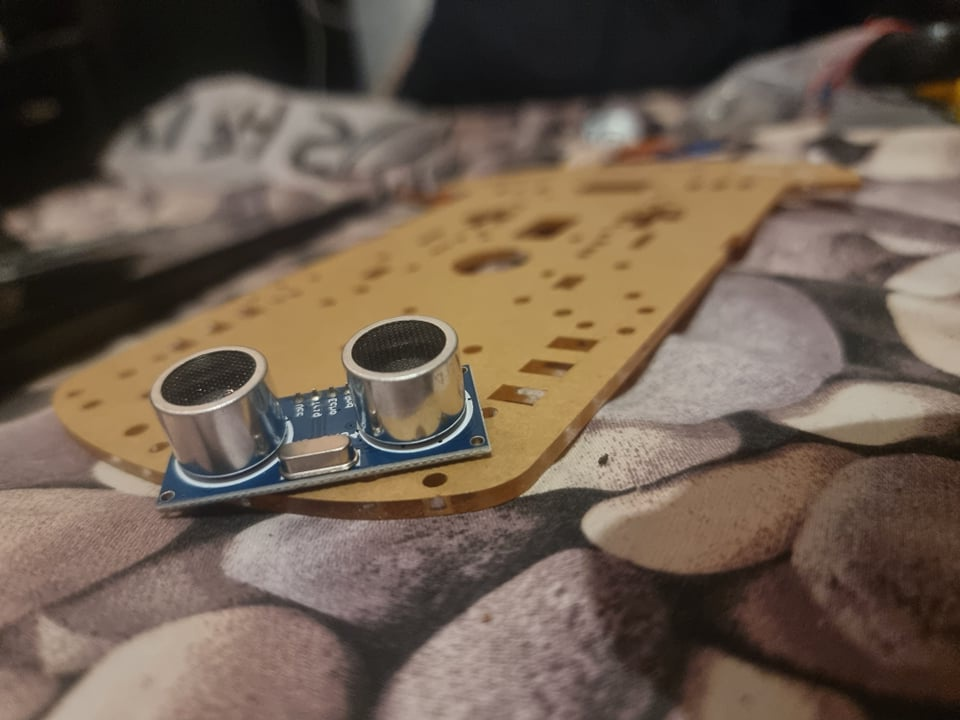SENSOR: (149, 316, 495, 512)
